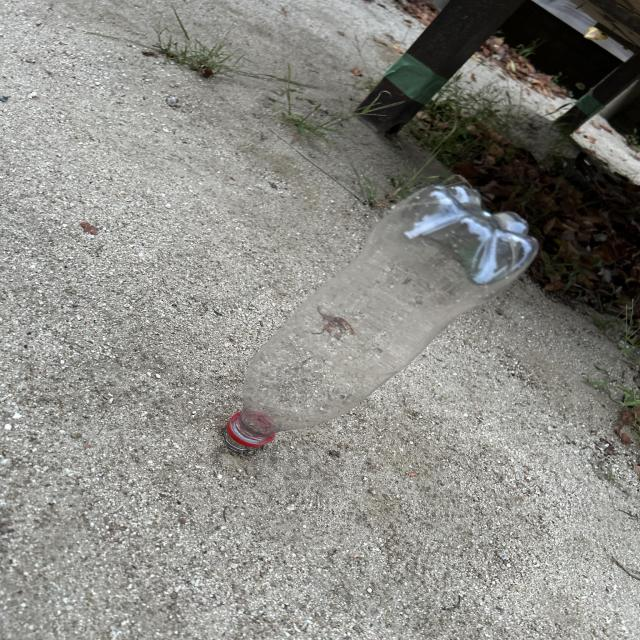empty: (223, 185, 538, 452)
